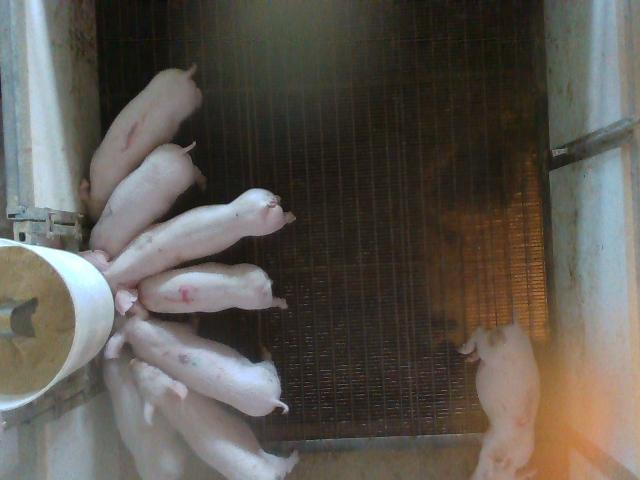pig-1: (80, 65, 201, 219)
pig-3: (459, 322, 540, 478)
pig-4: (139, 262, 288, 313)
